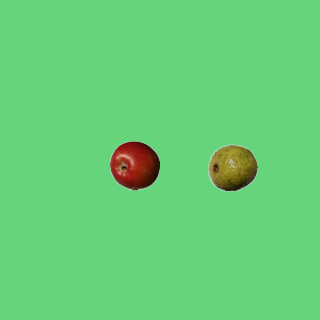Apple Braeburn: (109, 140, 159, 190)
Guava: (207, 142, 257, 192)
